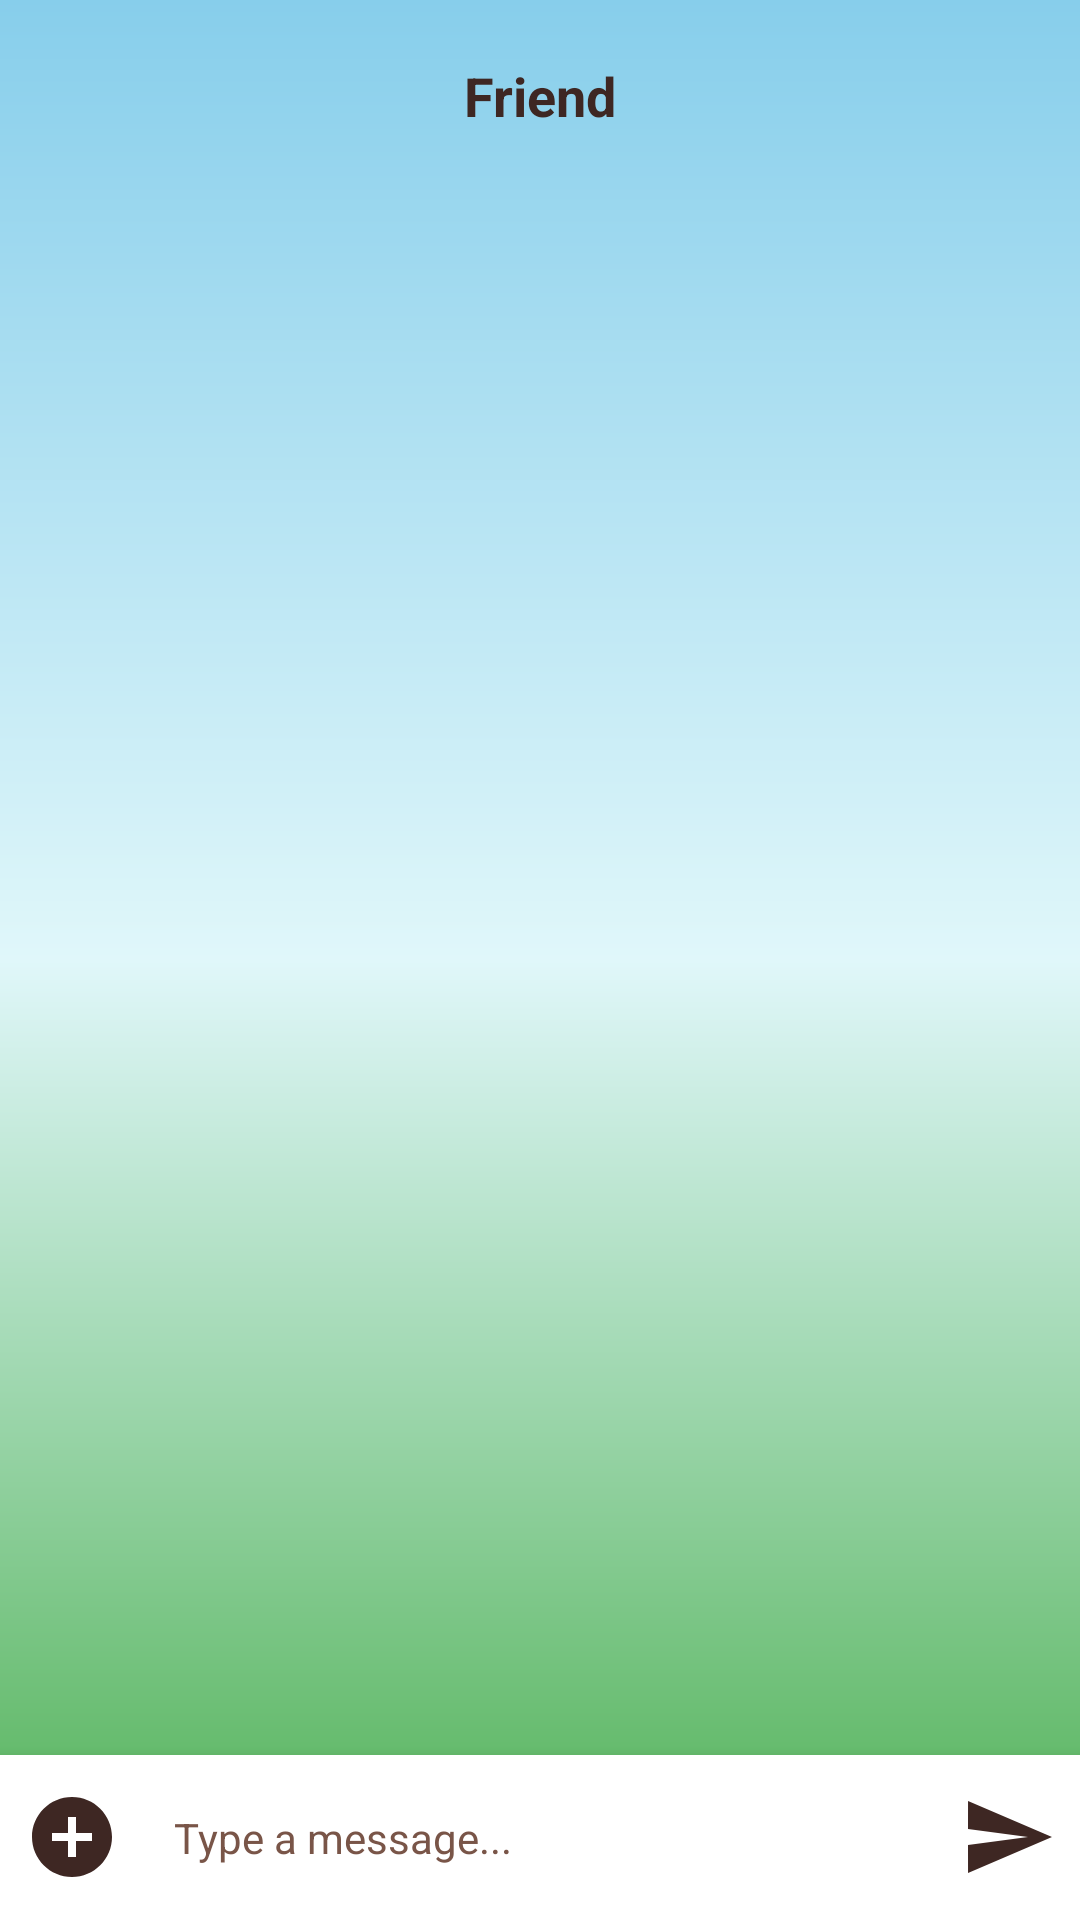

Screen size 1080 × 1920. Icon name, then its box in pixels as Rect(x1, y1, x2, y2):
add circle: Rect(32, 1797, 112, 1877)
send: Rect(968, 1801, 1052, 1873)
